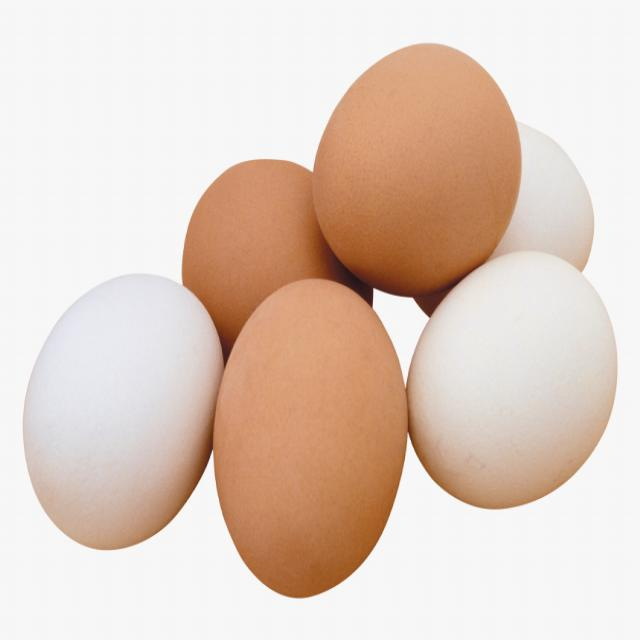egg: (214, 279, 409, 598), (22, 274, 224, 550), (407, 251, 618, 509), (313, 43, 522, 296)
